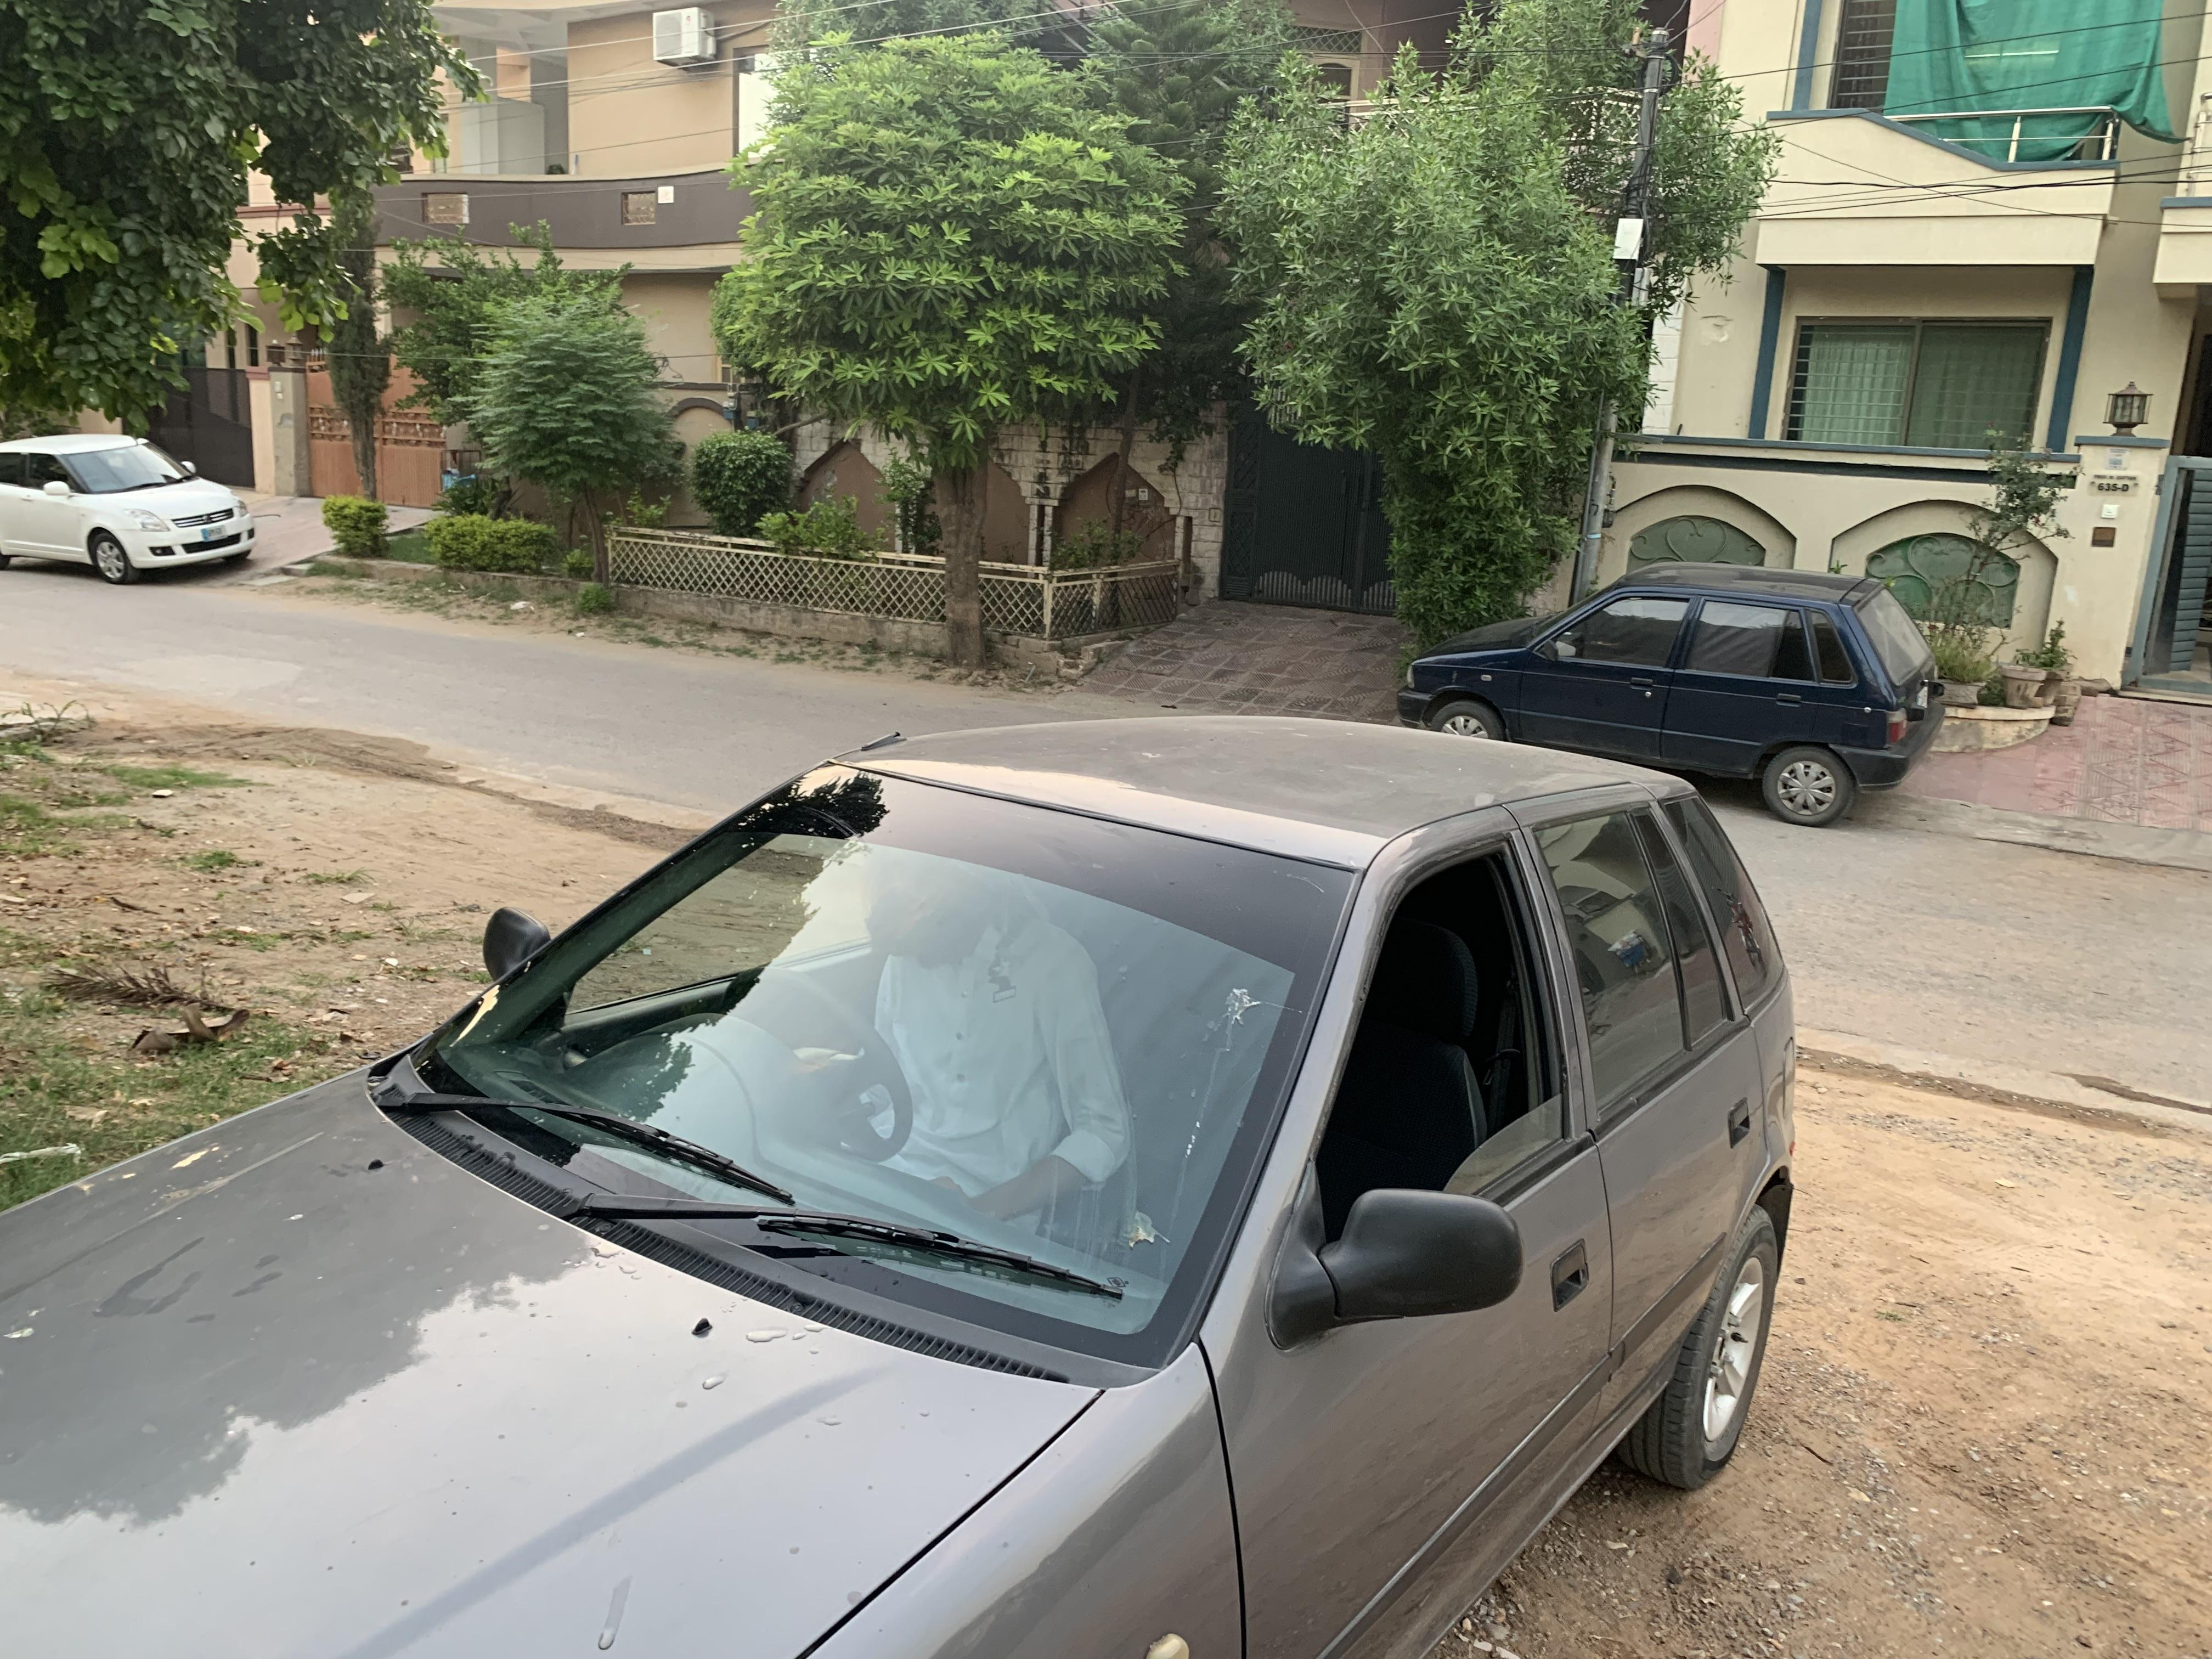windshield: (347, 735, 1395, 1405)
